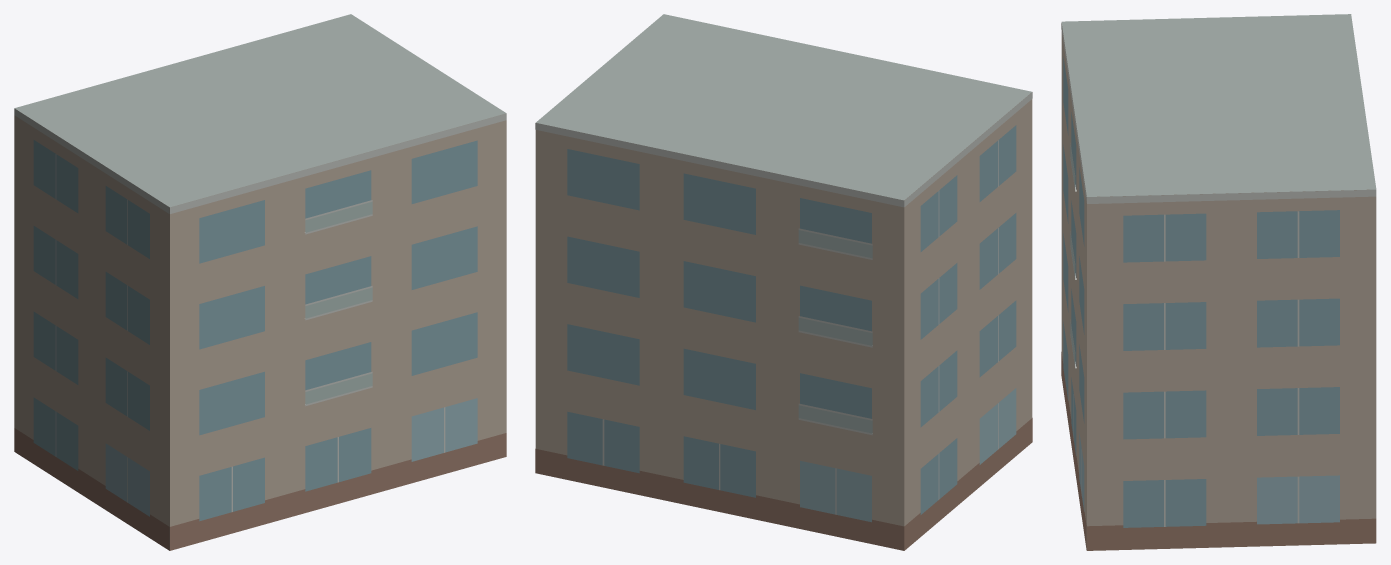
File: residential-50501b2f-f00f-4e87-859f-55fabd893e23.glb
3 views of the same model, side by side, from view 1: azimuth 30°, elevation 25°; view 2: azimuth 150°, elevation 25°; view 3: azimuth 270°, elevation 25° (orthographic). The views are drawn at different scales.
Visible parts, largest first — view 1: residential-50501b2f-f00f-4e87-859f-55fabd893e23.tmp; view 2: residential-50501b2f-f00f-4e87-859f-55fabd893e23.tmp; view 3: residential-50501b2f-f00f-4e87-859f-55fabd893e23.tmp.
Part boxes in pixels (x1,y1,x2,y2): residential-50501b2f-f00f-4e87-859f-55fabd893e23.tmp: (14,14,506,550); residential-50501b2f-f00f-4e87-859f-55fabd893e23.tmp: (535,14,1032,550); residential-50501b2f-f00f-4e87-859f-55fabd893e23.tmp: (1061,14,1376,550).
Size of the model in its own units: 13.55 by 12.2 by 9.85.
